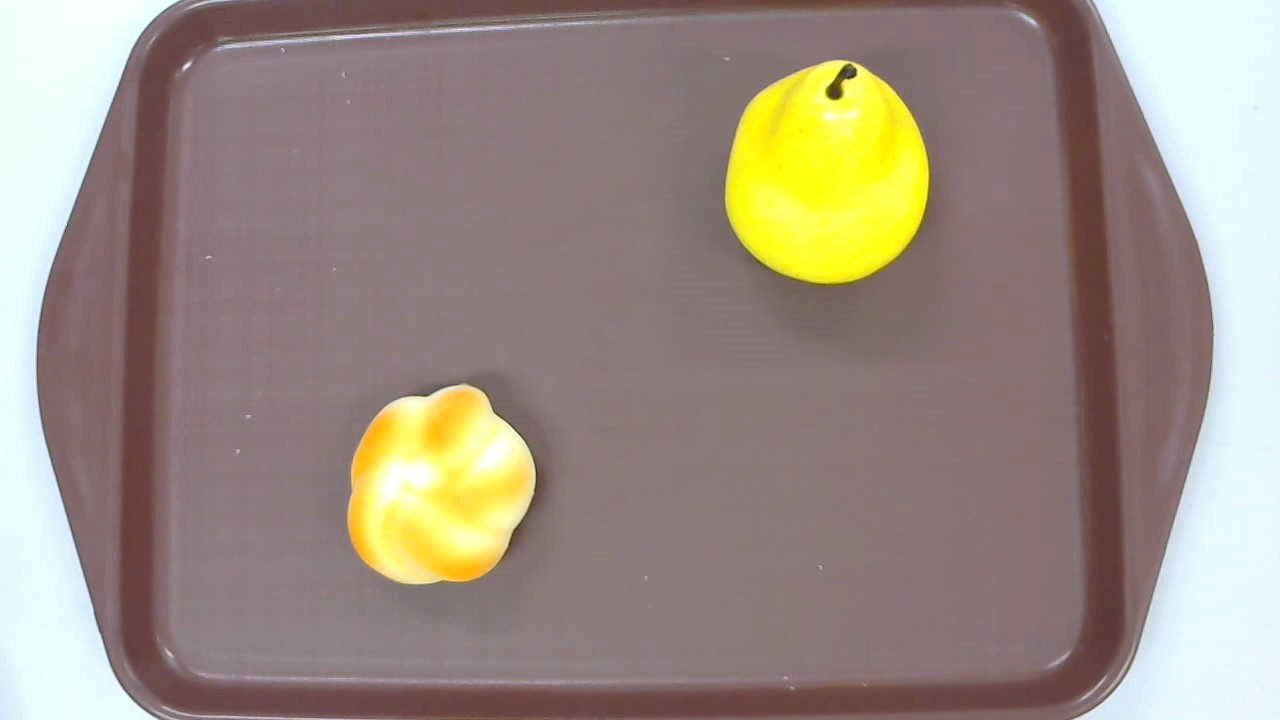twist bread: (346, 382, 536, 585)
yellow pear: (725, 60, 928, 287)
